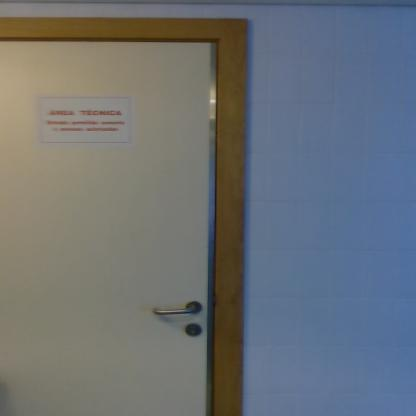door: (0, 40, 214, 416)
lever: (150, 304, 198, 316)
